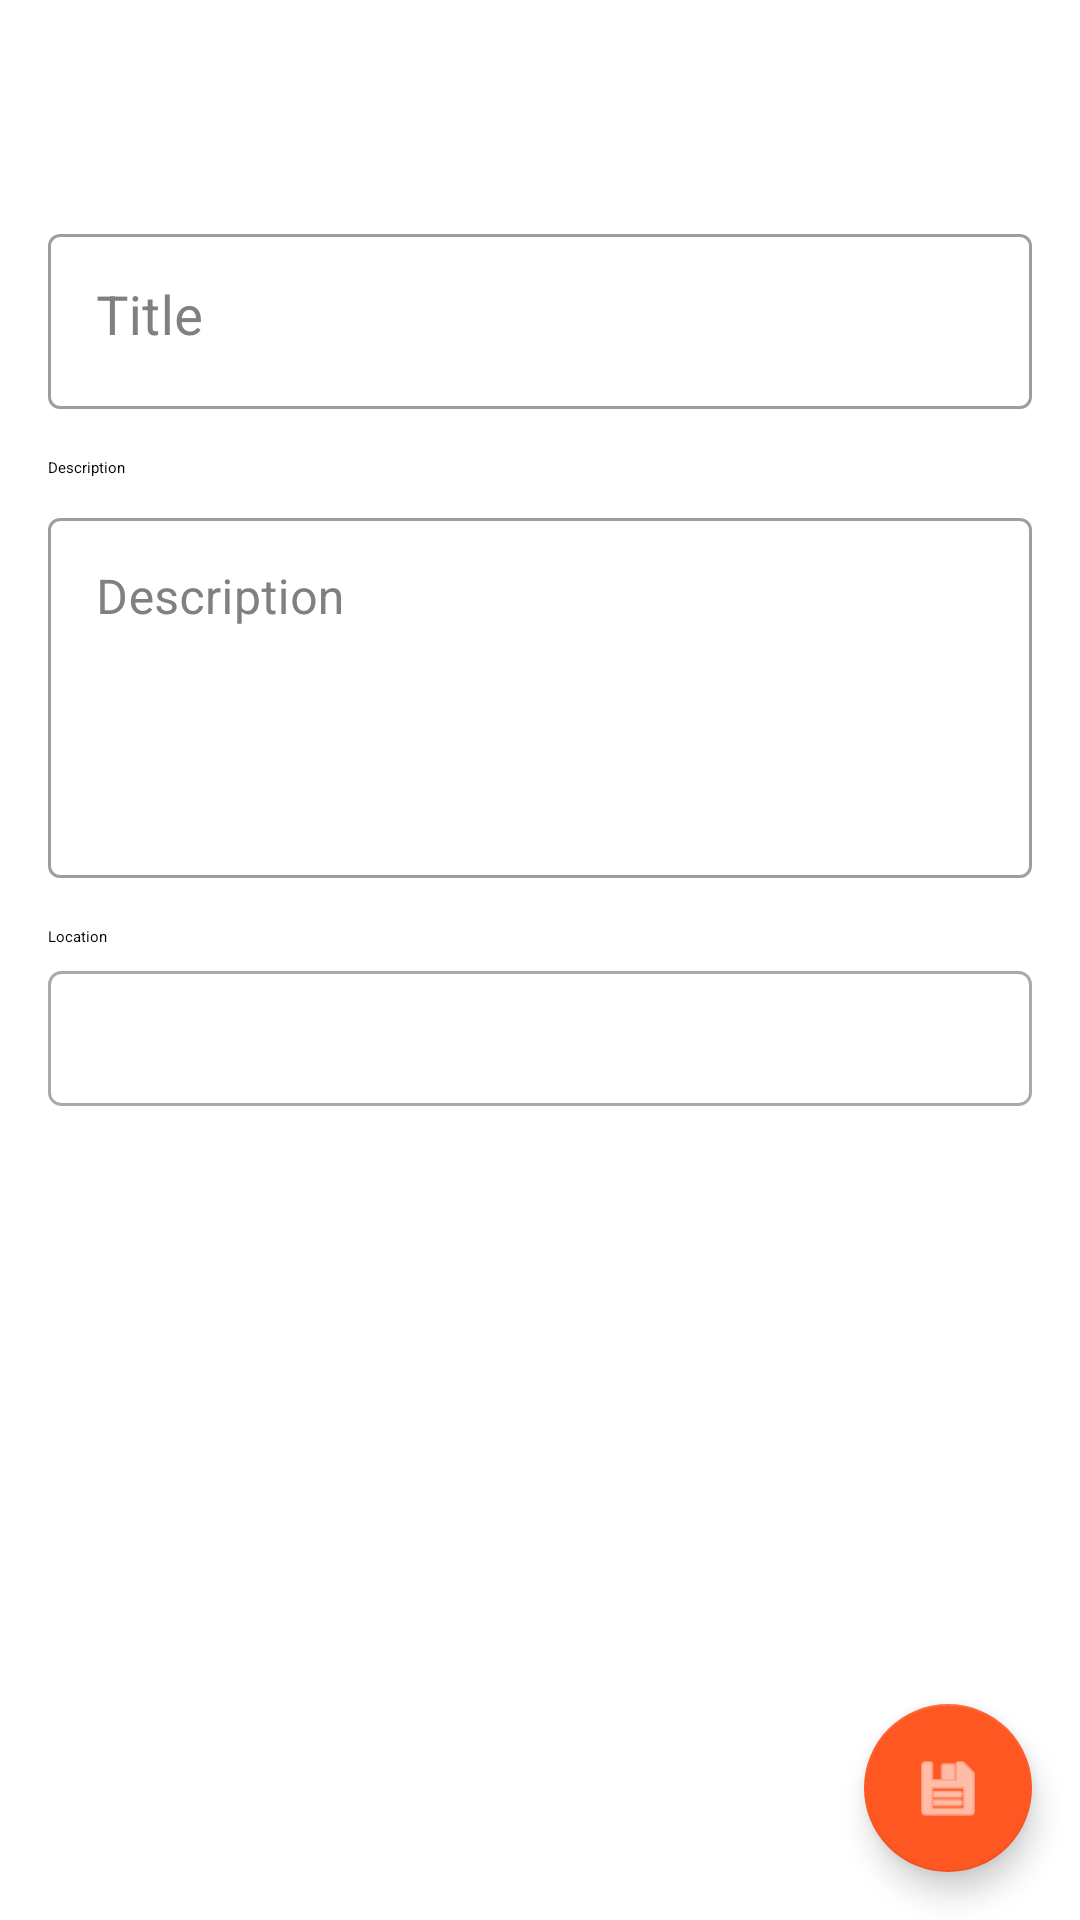

Named icons in this screenshot (1080px x 1920px) and their centers, (x=x, y=y):
Save Changes: (x=948, y=1788)
